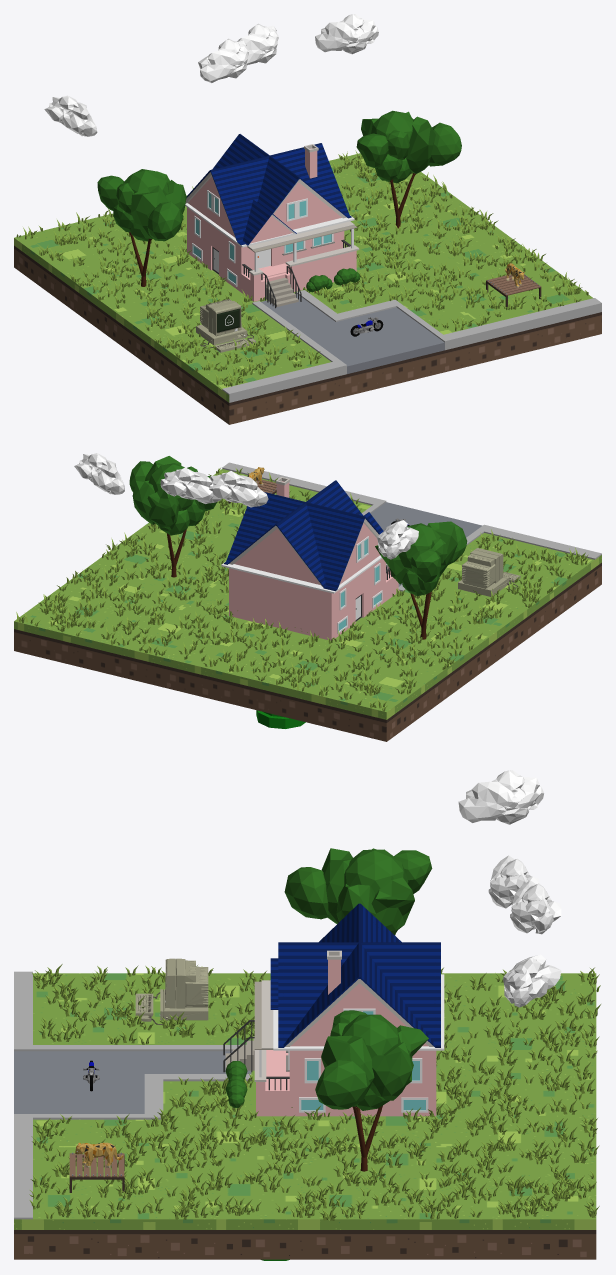
3 views of the same model, one above another, from view 1: azimuth 30°, elevation 25°; view 2: azimuth 150°, elevation 25°; view 3: azimuth 270°, elevation 25° (orthographic). The views are drawn at different scales.
Parts seen in each view (by area): view 1: Cube.006, Cube.313, Circle.012_Grass_0.192, Cube.007, tree, tree.001, OBJRANDOM_RETRO_PC, Cube.009; view 2: Cube.006, Cube.313, Circle.012_Grass_0.192, Cube.007, tree.001, tree, OBJRANDOM_RETRO_PC, UNDERGROUND_PIPES; view 3: Cube.006, Circle.012_Grass_0.192, Cube.313, tree, Cube.007, tree.001, OBJRANDOM_RETRO_PC, Cube.009, ANIMAL_JAGUAR.
Boxes of the visible parts, bbox=[...] form: Cube.006: bbox=[14, 153, 601, 424]; Cube.313: bbox=[185, 134, 359, 308]; Circle.012_Grass_0.192: bbox=[16, 150, 588, 386]; Cube.007: bbox=[44, 14, 378, 136]; tree: bbox=[356, 110, 461, 228]; tree.001: bbox=[97, 169, 186, 286]; OBJRANDOM_RETRO_PC: bbox=[196, 299, 255, 352]; Cube.009: bbox=[486, 274, 541, 306]; Cube.006: bbox=[14, 462, 601, 741]; Cube.313: bbox=[221, 477, 398, 640]; Circle.012_Grass_0.192: bbox=[16, 468, 588, 711]; Cube.007: bbox=[74, 453, 418, 559]; tree.001: bbox=[375, 521, 467, 639]; tree: bbox=[129, 456, 216, 577]; OBJRANDOM_RETRO_PC: bbox=[458, 548, 520, 596]; UNDERGROUND_PIPES: bbox=[256, 710, 305, 728]; Cube.006: bbox=[14, 971, 596, 1259]; Circle.012_Grass_0.192: bbox=[29, 964, 600, 1220]; Cube.313: bbox=[223, 903, 444, 1116]; tree: bbox=[315, 1010, 428, 1171]; Cube.007: bbox=[458, 770, 561, 1007]; tree.001: bbox=[284, 848, 432, 935]; OBJRANDOM_RETRO_PC: bbox=[135, 958, 208, 1024]; Cube.009: bbox=[69, 1152, 124, 1192]; ANIMAL_JAGUAR: bbox=[75, 1142, 123, 1167].
Bounding box in the file's own units: 4071 × 2759 × 4040.
Materials: 35 (3 with a texture image).
